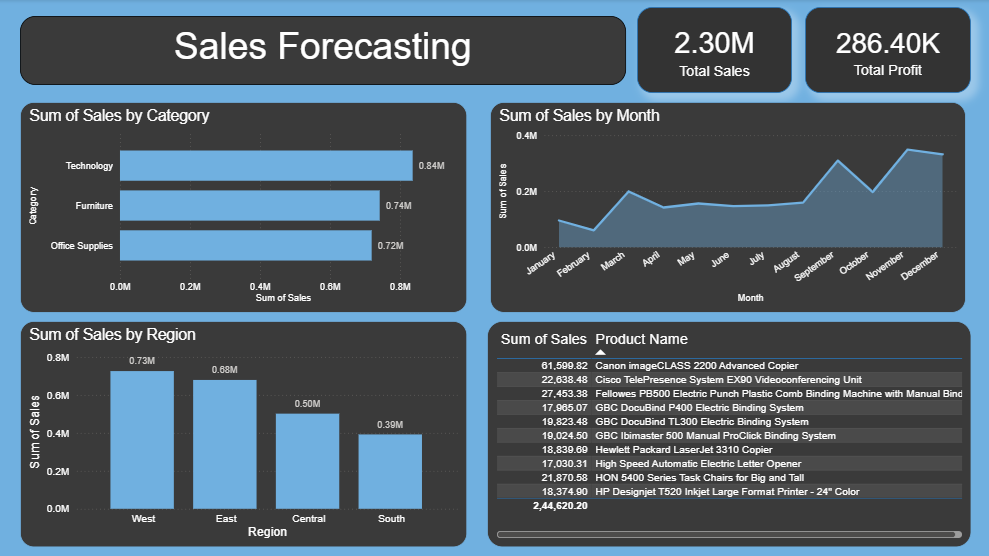

What the dashboard file says about the page in this screenshot:
{"tool":"powerbi","page":{"name":"Page 1","canvas":[1280,720],"ordinal":0},"visuals":[{"type":"card","fields":{"Values":["Sum(Orders.Sales)"]},"box":[823.1,10.8,200,110.8],"z":0},{"type":"card","fields":{"Values":["Sum(Orders.Profit)"]},"box":[1040,10.8,213.8,110.8],"z":1000},{"type":"clusteredBarChart","fields":{"Category":["Orders.Category"],"Y":["Sum(Orders.Sales)","select"]},"box":[27.7,132.3,576.9,272.3],"z":2000},{"type":"lineChart","fields":{"Category":["Orders.Order Date.Variation.Date Hierarchy.Month"],"Y":["Sum(Orders.Sales)"]},"box":[633.8,132.3,613.8,272.3],"z":3000},{"type":"tableEx","fields":{"Values":["Sum(Orders.Sales)","Orders.Product Name"]},"box":[629.2,415.4,624.6,292.3],"z":4000},{"type":"columnChart","fields":{"Y":["Sum(Orders.Sales)"],"Category":["Orders.Region"]},"box":[27.7,415.4,576.9,292.3],"z":5000},{"type":"textbox","box":[27.7,21.5,781.5,89.2],"z":5001}]}

Visuals, with their boxes in screenshot pixels (x1, y1, x2, y2), scaled from the page's 1280x720 canvas onto the 989x556 screenshot:
card - Sum(Orders.Sales): [636, 8, 791, 94]
card - Sum(Orders.Profit): [804, 8, 969, 94]
clusteredBarChart - Orders.Category x Sum(Orders.Sales): [21, 102, 467, 312]
lineChart - Orders.Order Date.Variation.Date Hierarchy.Month x Sum(Orders.Sales): [490, 102, 964, 312]
tableEx - Sum(Orders.Sales) x Orders.Product Name: [486, 321, 969, 547]
columnChart - Sum(Orders.Sales) x Orders.Region: [21, 321, 467, 547]
textbox: [21, 17, 625, 85]
